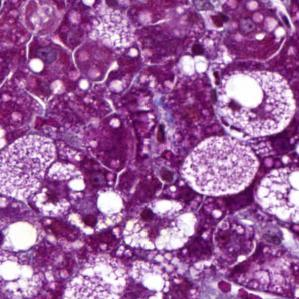ballooning: (212, 66, 297, 143), (177, 133, 263, 200), (119, 197, 200, 254), (4, 133, 58, 204), (253, 164, 299, 229)
